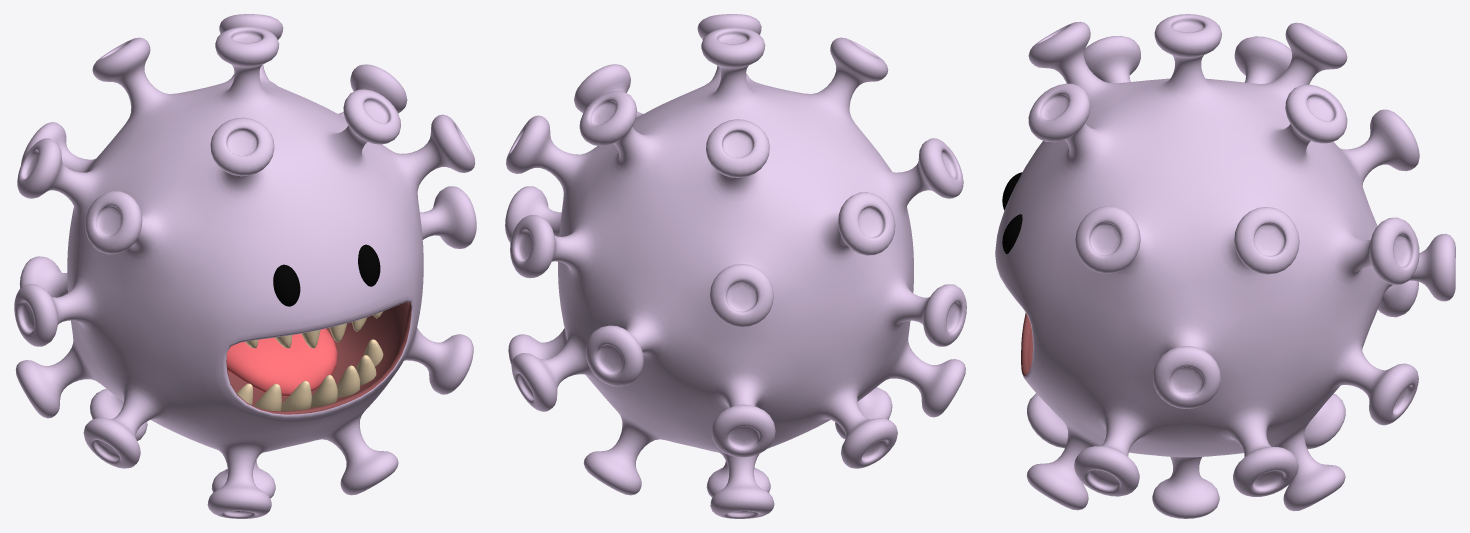
File: VirusCartoon.fbx
3 renders of one model, left to right at view 1: azimuth 30°, elevation 25°; view 2: azimuth 150°, elevation 25°; view 3: azimuth 270°, elevation 25°, orthographic. The views are drawn at different scales.
Visible parts, largest first — view 1: Virus.001; view 2: Virus.001; view 3: Virus.001.
Part boxes in pixels (x1,y1,x2,y2): Virus.001: [14, 14, 476, 518]; Virus.001: [505, 14, 966, 518]; Virus.001: [995, 14, 1455, 518].
Size of the model in its own units: 371 by 371 by 318.
